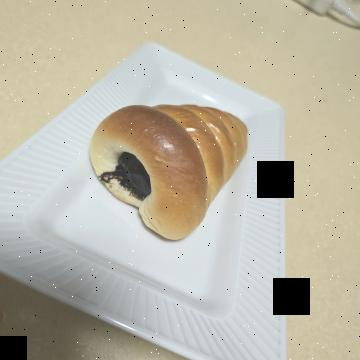cream horn: (92, 110, 258, 290)
